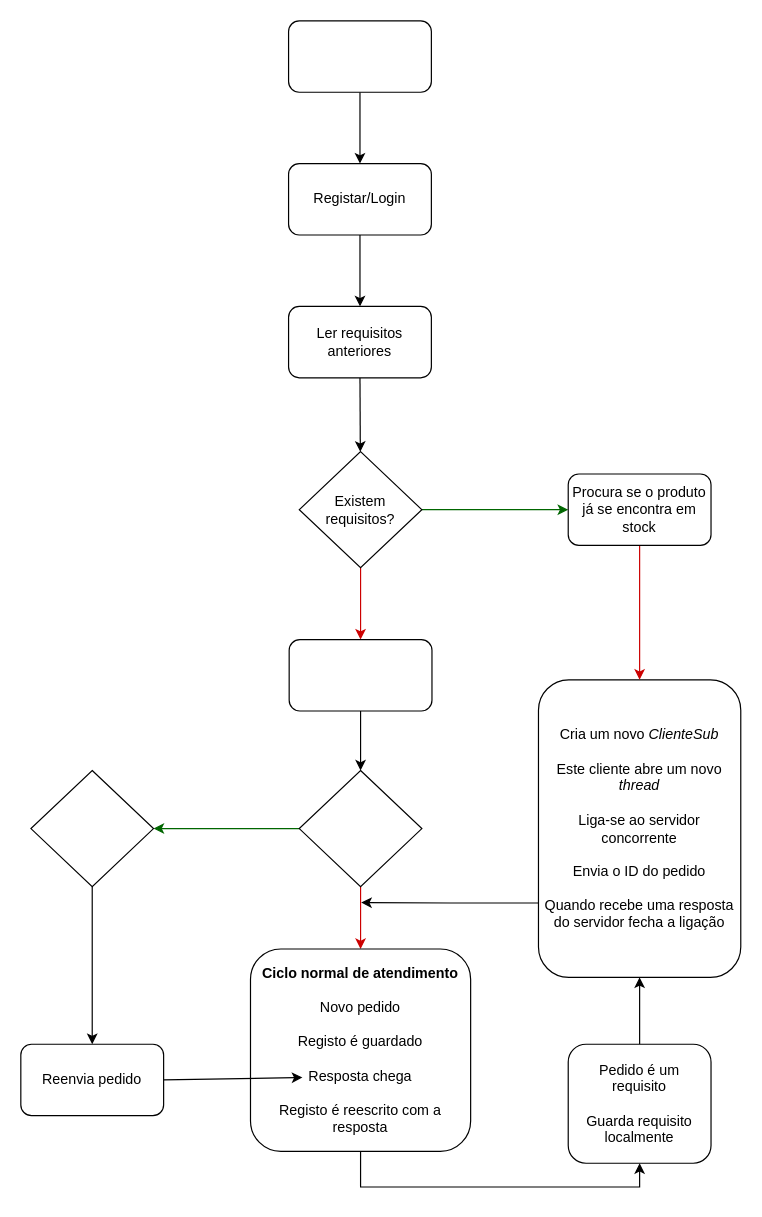
This 762x1217 diagram has some shape labels left out. The shapes that lost their labels are listed below. From the top down, each one's centre as x and y in pixels, then its label:
[359,56]: Cria um Postgres Connector stub
[360,674]: Ler registo da sessão anterior
[92,828]: O pedido foi respondido?
[360,828]: Existe registo?
